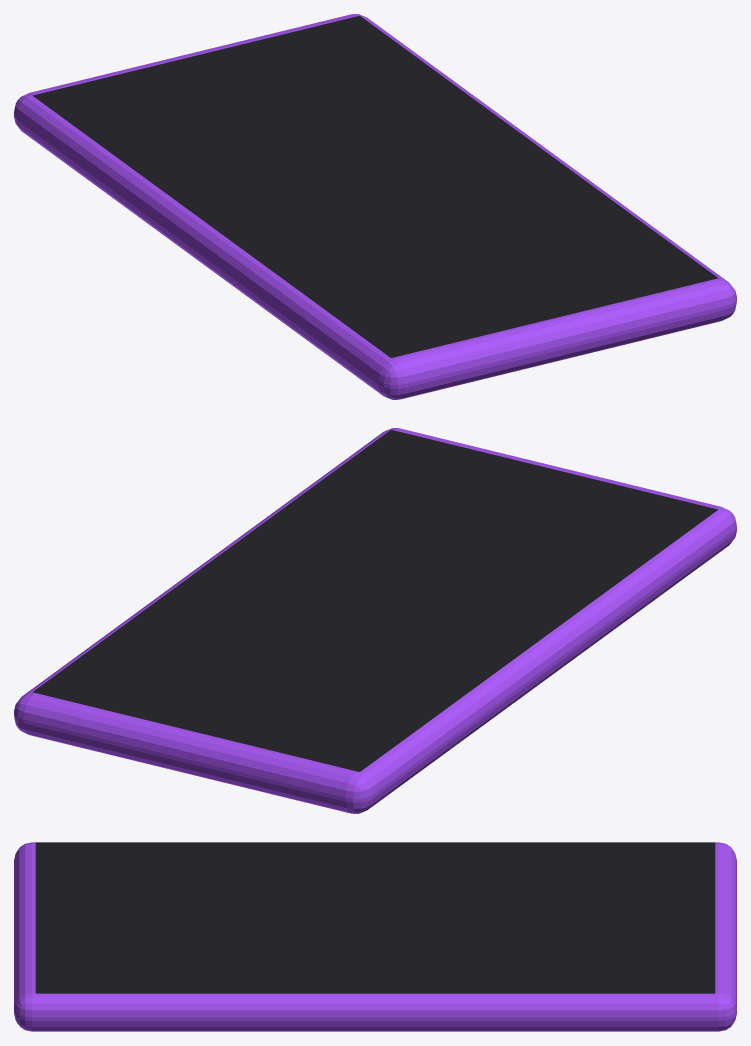
The model's file is Phone_654.glb.
3 views of the same model, one above another, from view 1: azimuth 30°, elevation 25°; view 2: azimuth 150°, elevation 25°; view 3: azimuth 270°, elevation 25° (orthographic). The views are drawn at different scales.
Parts seen in each view (by area): view 1: Phone_Screen, Phone_Body; view 2: Phone_Screen, Phone_Body; view 3: Phone_Screen, Phone_Body.
Boxes of the visible parts, box(x1,y1,x2,y2) form: Phone_Screen: box(32, 15, 717, 357); Phone_Body: box(14, 14, 736, 399); Phone_Screen: box(33, 429, 718, 771); Phone_Body: box(14, 428, 736, 813); Phone_Screen: box(35, 842, 715, 993); Phone_Body: box(14, 842, 736, 1031).
Bounding box in the file's own units: 0.0789 × 0.0084 × 0.1465.
